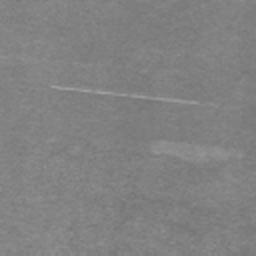Finishing roll printing: (49, 83, 244, 110)
